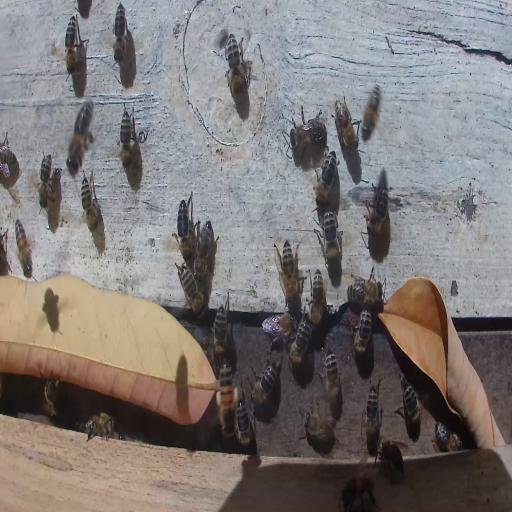nonpollenbee: (65, 98, 94, 175), (284, 115, 326, 162), (301, 402, 335, 452), (276, 241, 302, 302), (224, 36, 248, 99), (317, 208, 342, 266), (366, 181, 390, 241), (176, 263, 204, 314), (333, 97, 358, 154), (339, 472, 374, 512), (399, 378, 422, 438), (80, 172, 102, 234), (175, 192, 195, 259), (314, 147, 337, 205), (193, 219, 216, 277), (378, 436, 405, 484), (346, 277, 385, 310), (347, 307, 373, 355), (360, 84, 382, 139), (320, 347, 340, 405), (365, 380, 381, 452), (38, 151, 56, 213), (288, 319, 312, 365), (77, 414, 116, 441), (250, 364, 276, 404), (236, 394, 254, 450), (112, 2, 128, 62), (118, 106, 132, 171), (310, 268, 326, 324), (433, 424, 463, 453), (0, 133, 18, 181), (64, 14, 78, 75), (213, 302, 227, 360), (262, 314, 294, 338), (44, 378, 58, 418)
pollenbee: (216, 360, 240, 445), (12, 216, 36, 281)
